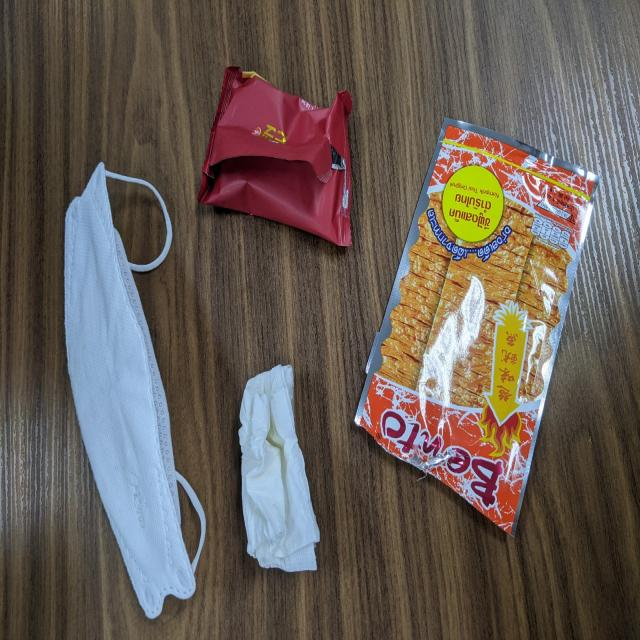mask: (64, 161, 207, 619)
napkin: (238, 364, 320, 573)
packet: (196, 64, 353, 247)
snack package: (352, 116, 600, 540)
